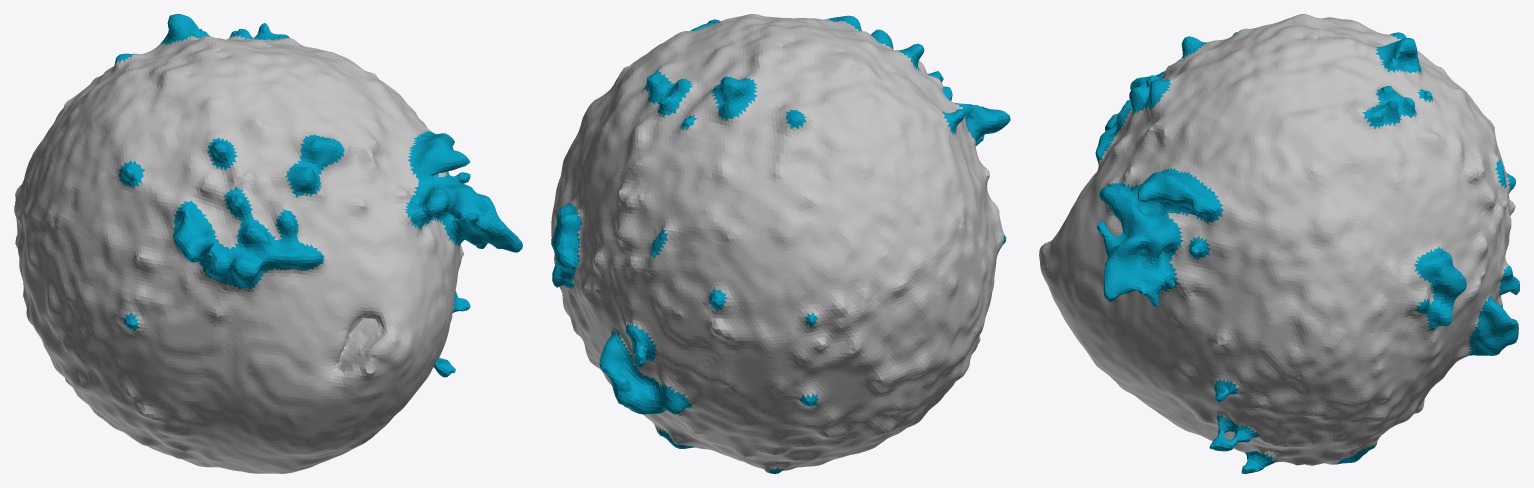
3 renders of one model, left to right at view 1: azimuth 30°, elevation 25°; view 2: azimuth 150°, elevation 25°; view 3: azimuth 270°, elevation 25°, orthographic. The views are drawn at different scales.
Size of the model in its own units: 91.29 by 88.61 by 98.88.
